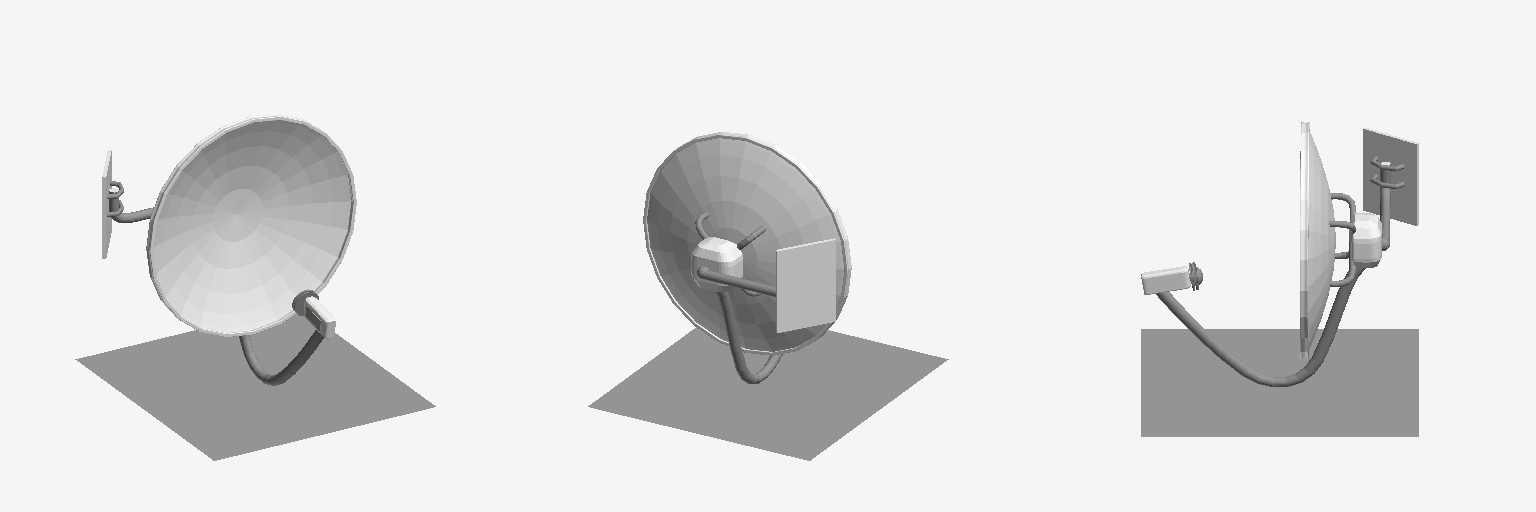
File: antena.obj
3 views of the same model, side by side, from view 1: azimuth 30°, elevation 25°; view 2: azimuth 150°, elevation 25°; view 3: azimuth 270°, elevation 25° (orthographic).
Parts seen in each view (by area): view 1: antenaParabolica_36_3, ground_1, antenaParabolica_4648_5, antenaParabolica_2; view 2: antenaParabolica_36_3, ground_1, antenaParabolica_2, antenaParabolica_4648_5; view 3: ground_1, antenaParabolica_36_3, antenaParabolica_4648_5, antenaParabolica_2.
Boxes of the visible parts, <box> form: antenaParabolica_36_3: <box>146,114,356,338</box>; ground_1: <box>75,314,435,460</box>; antenaParabolica_4648_5: <box>107,181,323,385</box>; antenaParabolica_2: <box>102,150,118,258</box>; antenaParabolica_36_3: <box>643,132,851,355</box>; ground_1: <box>588,327,948,460</box>; antenaParabolica_2: <box>776,238,835,332</box>; antenaParabolica_4648_5: <box>695,212,782,383</box>; ground_1: <box>1141,329,1418,436</box>; antenaParabolica_36_3: <box>1141,122,1381,358</box>; antenaParabolica_4648_5: <box>1156,156,1404,386</box>; antenaParabolica_2: <box>1363,127,1418,225</box>.
Size of the model in its own units: 65 by 71.1 by 70.4.